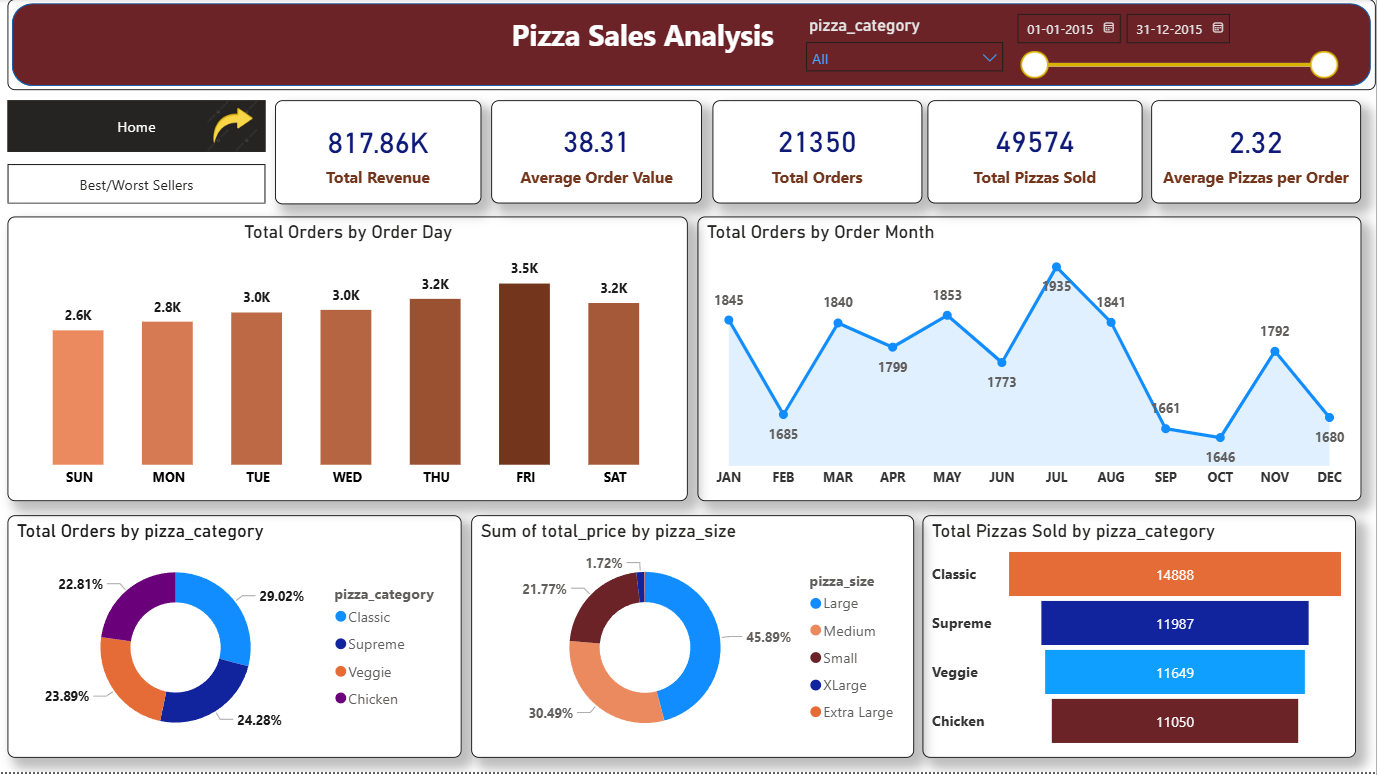

The dashboard page shown, as its layout file describes it:
{"tool":"powerbi","page":{"name":"Home","canvas":[1280,720],"ordinal":0},"visuals":[{"type":"shape","box":[7.5,0,1272.5,85],"z":0},{"type":"textbox","box":[471.2,10,457.5,52.5],"z":1000},{"type":"card","fields":{"Values":["pizza_sales.Total Revenue"]},"box":[255.8,94.2,191.9,96.5],"z":2000},{"type":"card","fields":{"Values":["pizza_sales.Average Order Value"]},"box":[457.5,93.8,196.2,96.2],"z":3000},{"type":"card","fields":{"Values":["pizza_sales.Total Orders"]},"box":[662.5,93.8,195,96.2],"z":4000},{"type":"card","fields":{"Values":["pizza_sales.Total Pizzas Sold"]},"box":[862.5,93.8,200,96.2],"z":5000},{"type":"card","fields":{"Values":["pizza_sales.Average Pizzas per Order"]},"box":[1071.2,93.8,195,96.2],"z":6000},{"type":"columnChart","fields":{"Y":["pizza_sales.Total Orders"],"Category":["pizza_sales.Order Day"]},"box":[7,202.3,632.6,265.1],"z":7000},{"type":"areaChart","fields":{"Category":["pizza_sales.Order Month"],"Y":["pizza_sales.Total Orders"]},"box":[648.8,202.3,617.4,265.1],"z":8000},{"type":"donutChart","fields":{"Category":["pizza_sales.pizza_category"],"Y":["pizza_sales.Total Orders"]},"box":[7,480.2,422.1,225.6],"z":9000},{"type":"donutChart","fields":{"Category":["pizza_sales.pizza_size"],"Y":["Sum(pizza_sales.total_price)"]},"box":[438.4,480.2,411.6,225.6],"z":10000},{"type":"funnel","fields":{"Category":["pizza_sales.pizza_category"],"Y":["pizza_sales.Total Pizzas Sold"]},"box":[858.1,480.2,403.5,225.6],"z":11000},{"type":"slicer","fields":{"Values":["pizza_sales.pizza_category"]},"box":[740,10,203.8,66.2],"z":16000},{"type":"slicer","fields":{"Values":["pizza_sales.order_date"]},"box":[934,4,318.8,76.2],"z":17000},{"type":"pageNavigator","box":[7.5,93.8,240,48.8],"z":18000},{"type":"pageNavigator","box":[7,153.5,240.7,37.2],"z":19000},{"type":"image","box":[184.9,83.7,62.8,68.6],"z":20000}]}

Visuals, with their boxes in screenshot pixels (x1, y1, x2, y2), scaled from the page's 1280x720 canvas onto the 1377x775 screenshot:
shape: 8, 0, 1376, 91
textbox: 507, 11, 999, 67
card - pizza_sales.Total Revenue: 275, 101, 482, 205
card - pizza_sales.Average Order Value: 492, 101, 703, 205
card - pizza_sales.Total Orders: 713, 101, 922, 205
card - pizza_sales.Total Pizzas Sold: 928, 101, 1143, 205
card - pizza_sales.Average Pizzas per Order: 1152, 101, 1362, 205
columnChart - pizza_sales.Total Orders x pizza_sales.Order Day: 8, 218, 688, 503
areaChart - pizza_sales.Order Month x pizza_sales.Total Orders: 698, 218, 1362, 503
donutChart - pizza_sales.pizza_category x pizza_sales.Total Orders: 8, 517, 462, 760
donutChart - pizza_sales.pizza_size x Sum(pizza_sales.total_price): 472, 517, 914, 760
funnel - pizza_sales.pizza_category x pizza_sales.Total Pizzas Sold: 923, 517, 1357, 760
slicer - pizza_sales.pizza_category: 796, 11, 1015, 82
slicer - pizza_sales.order_date: 1005, 4, 1348, 86
pageNavigator: 8, 101, 266, 153
pageNavigator: 8, 165, 266, 205
image: 199, 90, 266, 164
